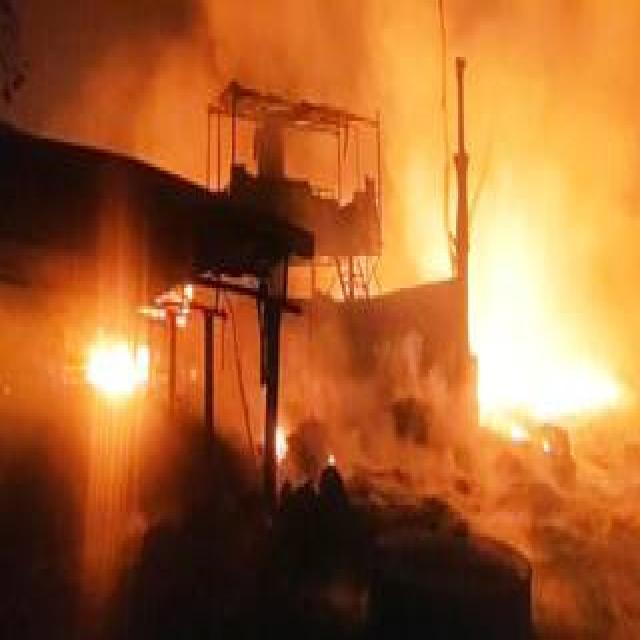fire: (468, 206, 621, 443), (86, 334, 152, 403)
